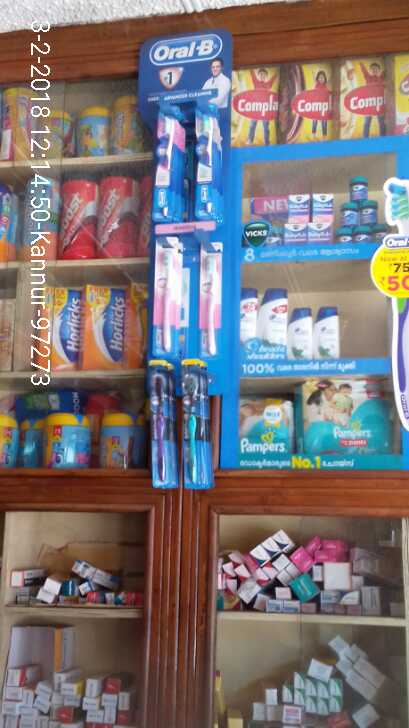beauty: (259, 289, 289, 350), (314, 306, 341, 359), (287, 304, 313, 359)
pharmacy: (299, 377, 392, 457), (181, 361, 214, 491), (145, 358, 175, 488), (153, 104, 181, 220), (240, 395, 295, 454), (153, 232, 179, 356), (192, 99, 219, 218), (196, 240, 223, 358), (349, 175, 370, 201), (340, 201, 360, 227), (356, 200, 377, 224)
